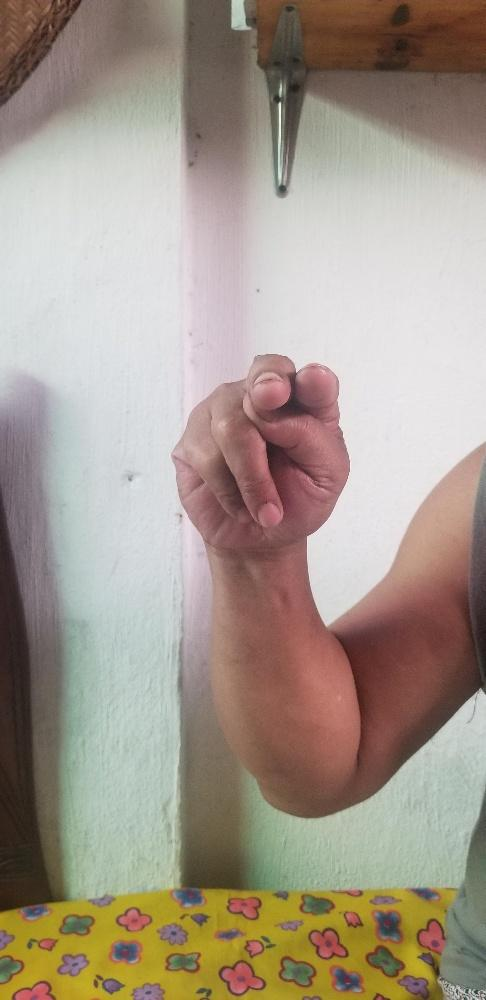n: (171, 349, 352, 549)
